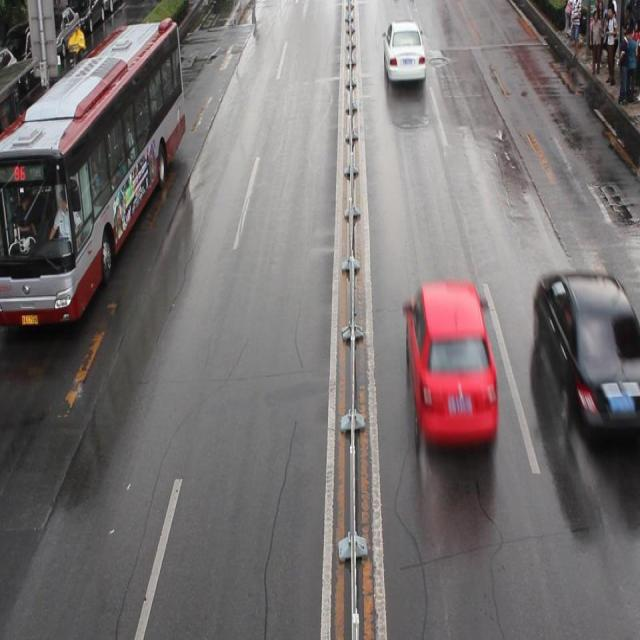car: (531, 272, 640, 438), (402, 282, 498, 445), (382, 22, 425, 81)
van: (1, 17, 186, 321)
